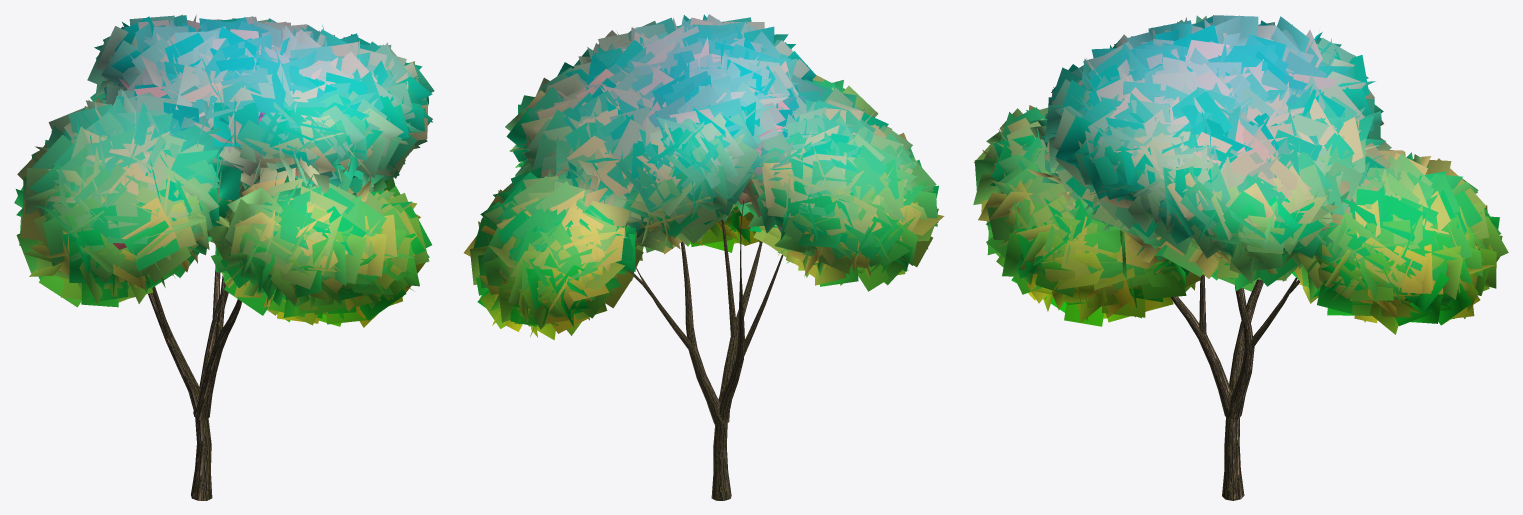
File: TR_HoaSua_0.fbx
The picture shows the model from 3 angles, left to right: view 1: azimuth 30°, elevation 25°; view 2: azimuth 150°, elevation 25°; view 3: azimuth 270°, elevation 25°; orthographic projection. The views are drawn at different scales.
Visible parts, largest first — view 1: TR_HoaSua_0_LOD0; view 2: TR_HoaSua_0_LOD0; view 3: TR_HoaSua_0_LOD0.
Part boxes in pixels (<box>): TR_HoaSua_0_LOD0: <box>14,14,434,500</box>; TR_HoaSua_0_LOD0: <box>464,14,944,500</box>; TR_HoaSua_0_LOD0: <box>973,14,1508,500</box>.
Size of what is drawn, in the model's own units: 12.6 by 13.71 by 13.96.
